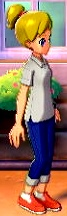woman_no_egg: (5, 3, 62, 216)
